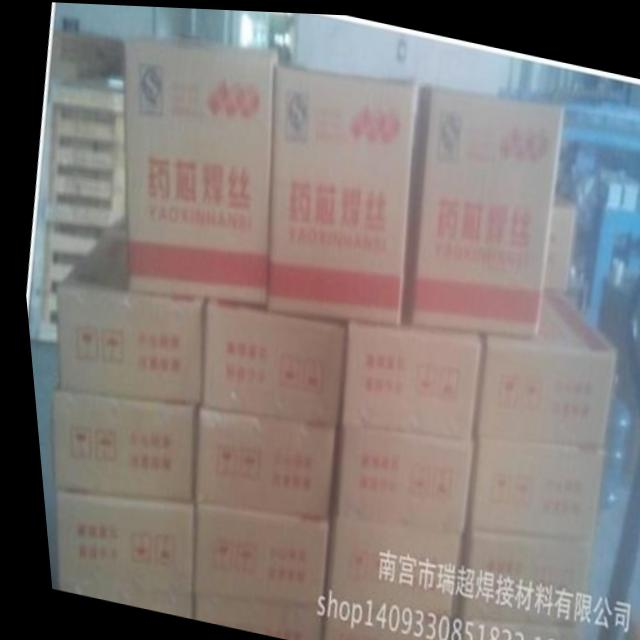box: (394, 81, 562, 335), (122, 34, 278, 303), (261, 62, 418, 323), (49, 213, 199, 402), (466, 284, 610, 442), (194, 298, 340, 422), (331, 319, 477, 435), (44, 389, 190, 502), (186, 406, 329, 516), (456, 432, 595, 536), (324, 424, 465, 526), (45, 493, 184, 591), (182, 504, 321, 601), (315, 518, 454, 614), (445, 529, 581, 620), (312, 603, 440, 640), (438, 617, 568, 640)
